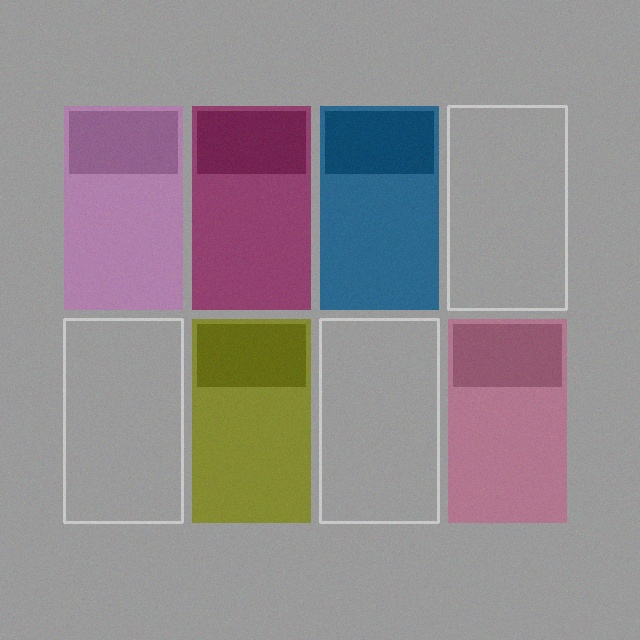space-empty: (448, 106, 566, 309), (64, 319, 182, 522), (320, 319, 438, 522)
space-occupied: (64, 106, 182, 309), (192, 106, 310, 309), (320, 106, 438, 309), (192, 319, 310, 522), (448, 319, 566, 522)
